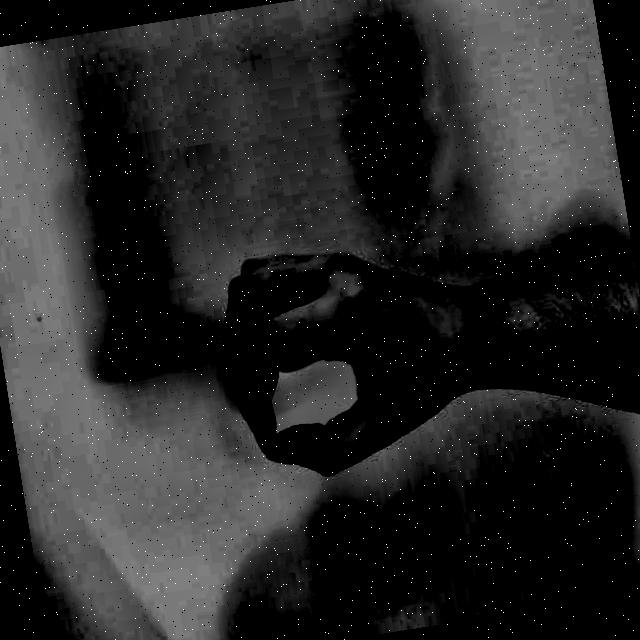O: (181, 190, 502, 510)
